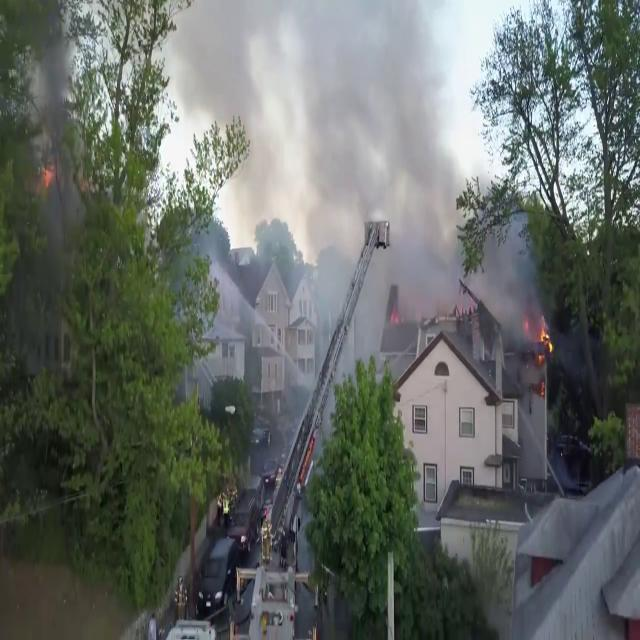Fire: (534, 318, 556, 366)
Smoke: (230, 0, 530, 340)
